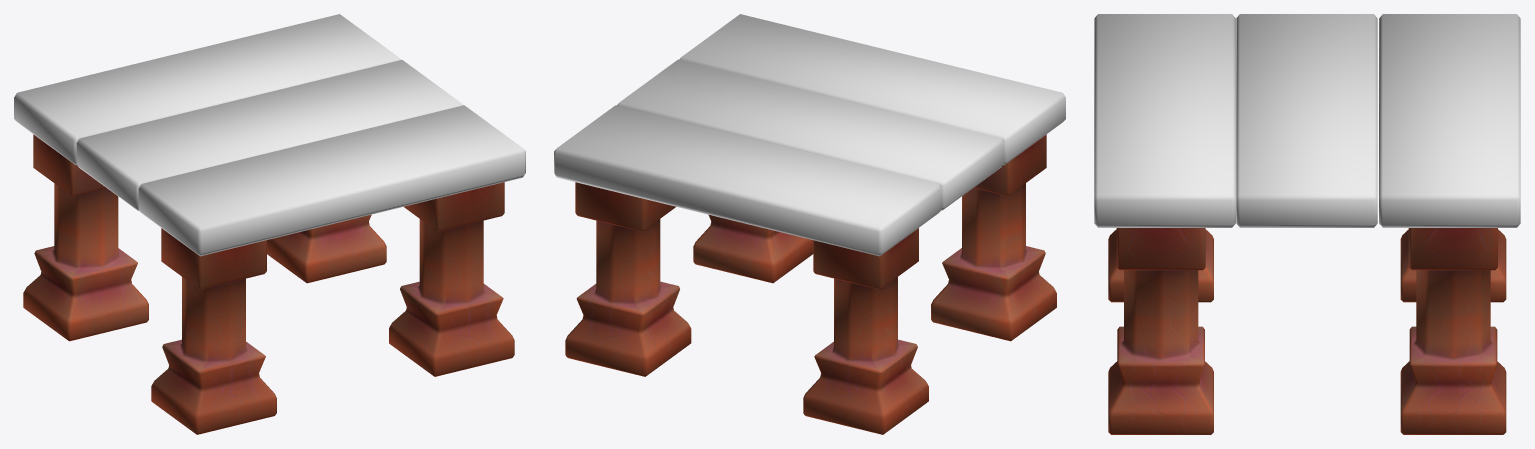
The model's file is chair.fbx.
3 views of the same model, side by side, from view 1: azimuth 30°, elevation 25°; view 2: azimuth 150°, elevation 25°; view 3: azimuth 270°, elevation 25° (orthographic). The views are drawn at different scales.
Visible parts, largest first — view 1: plank_top.005, l_leg.005; view 2: plank_top.005, l_leg.005; view 3: plank_top.005, l_leg.005.
Boxes of the visible parts, bbox=[...] form: plank_top.005: bbox=[14, 14, 525, 256]; l_leg.005: bbox=[23, 134, 514, 434]; plank_top.005: bbox=[554, 14, 1065, 256]; l_leg.005: bbox=[565, 134, 1056, 434]; plank_top.005: bbox=[1094, 14, 1520, 227]; l_leg.005: bbox=[1108, 228, 1506, 434].
Size of the model in its own units: 191 by 118 by 187.
